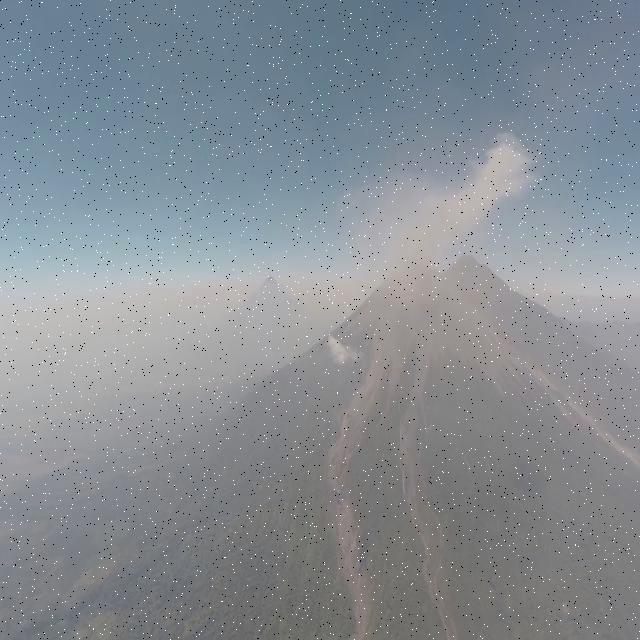Plume: (348, 116, 544, 272)
